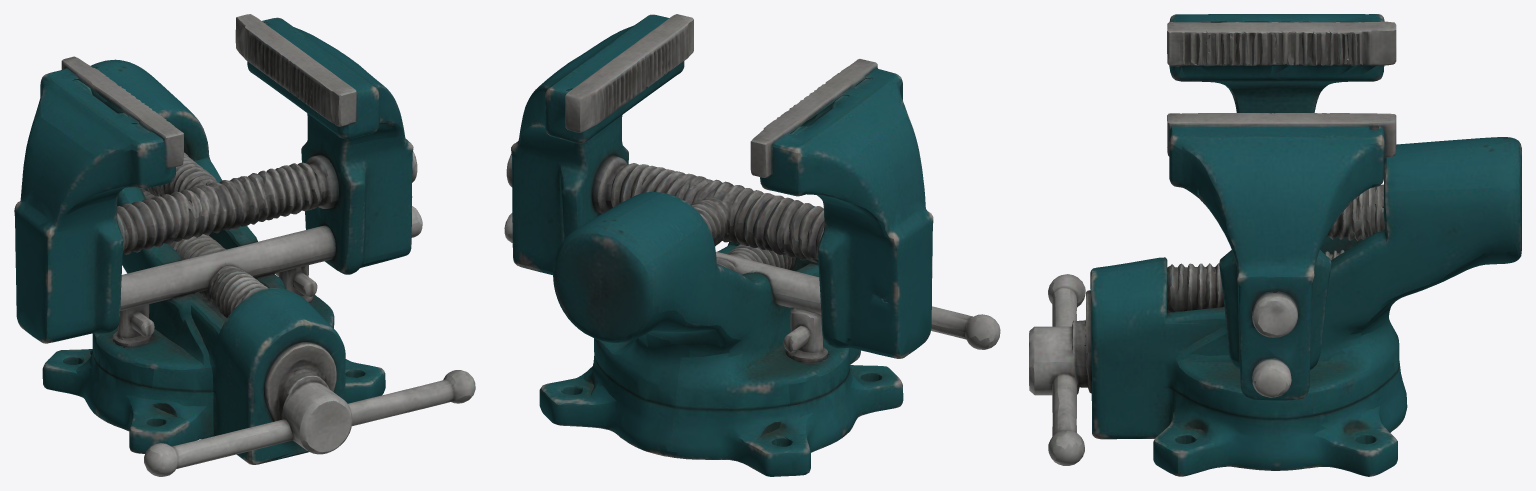
The model's file is parts.glb.
3 views of the same model, side by side, from view 1: azimuth 30°, elevation 25°; view 2: azimuth 150°, elevation 25°; view 3: azimuth 270°, elevation 25° (orthographic). The views are drawn at different scales.
Bounding box in the file's own units: 0.25 × 0.1977 × 0.2568.
Materials: 5 (5 with a texture image).
